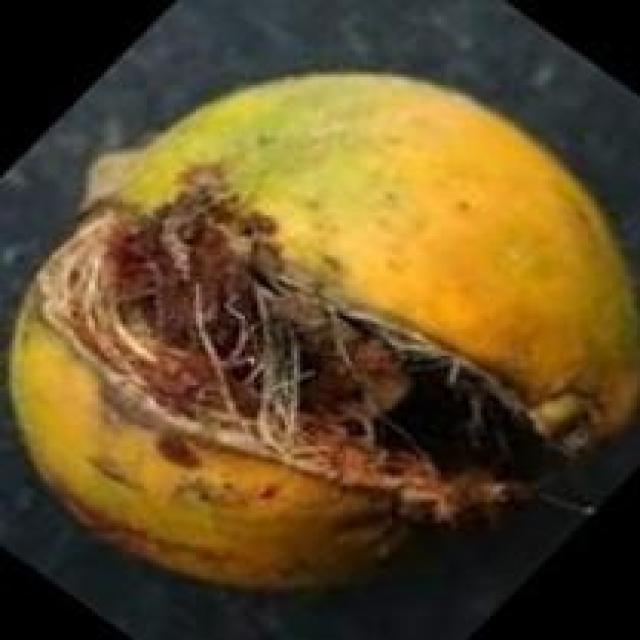damaged: (18, 72, 637, 595)
